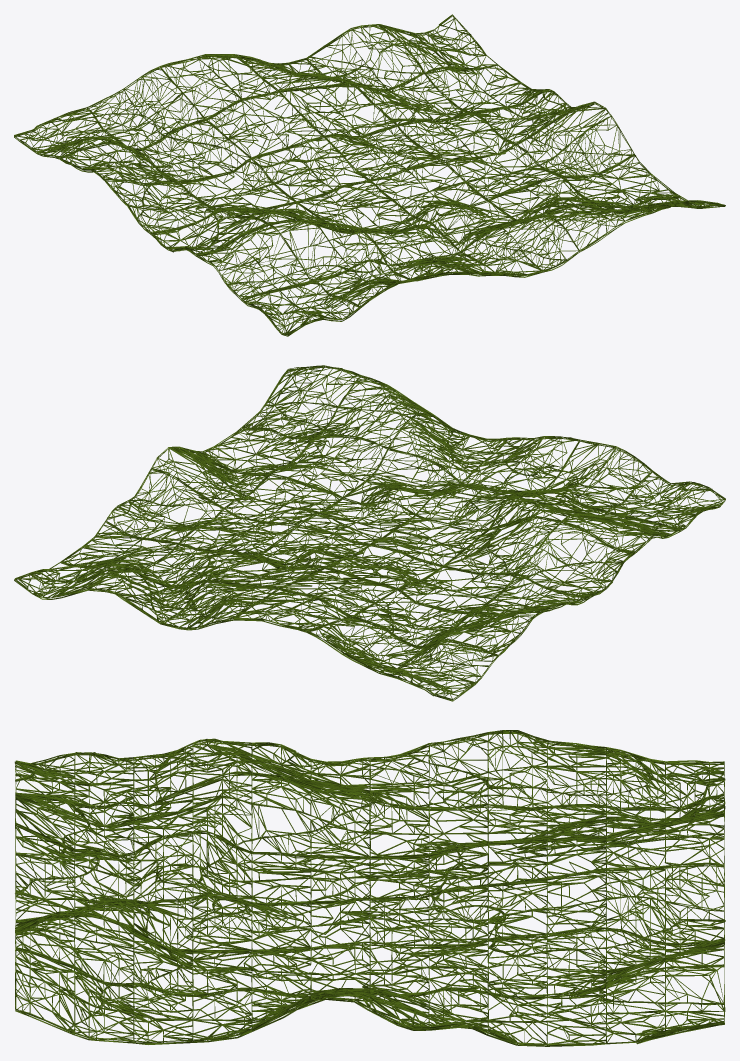
Rendered from vale_do_cafe.glb.
3 renders of one model, top to bottom at view 1: azimuth 30°, elevation 25°; view 2: azimuth 150°, elevation 25°; view 3: azimuth 270°, elevation 25°, orthographic. The views are drawn at different scales.
Visible parts, largest first — view 1: 03724040515151475_0; view 2: 03724040515151475_0; view 3: 03724040515151475_0.
Part boxes in pixels (<box>): 03724040515151475_0: <box>14,14,725,336</box>; 03724040515151475_0: <box>14,365,725,701</box>; 03724040515151475_0: <box>14,730,725,1046</box>.
Bounding box in the file's own units: 854 × 82.01 × 921.
